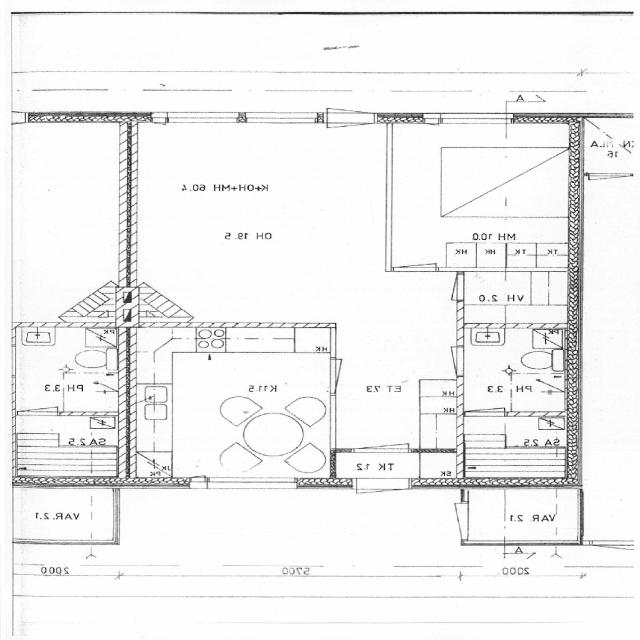door: (357, 478, 410, 526), (354, 410, 409, 452), (410, 504, 468, 540), (327, 112, 374, 156), (327, 80, 374, 123), (330, 359, 384, 394), (393, 238, 436, 271), (465, 384, 505, 416), (418, 347, 463, 375), (420, 274, 463, 300)
